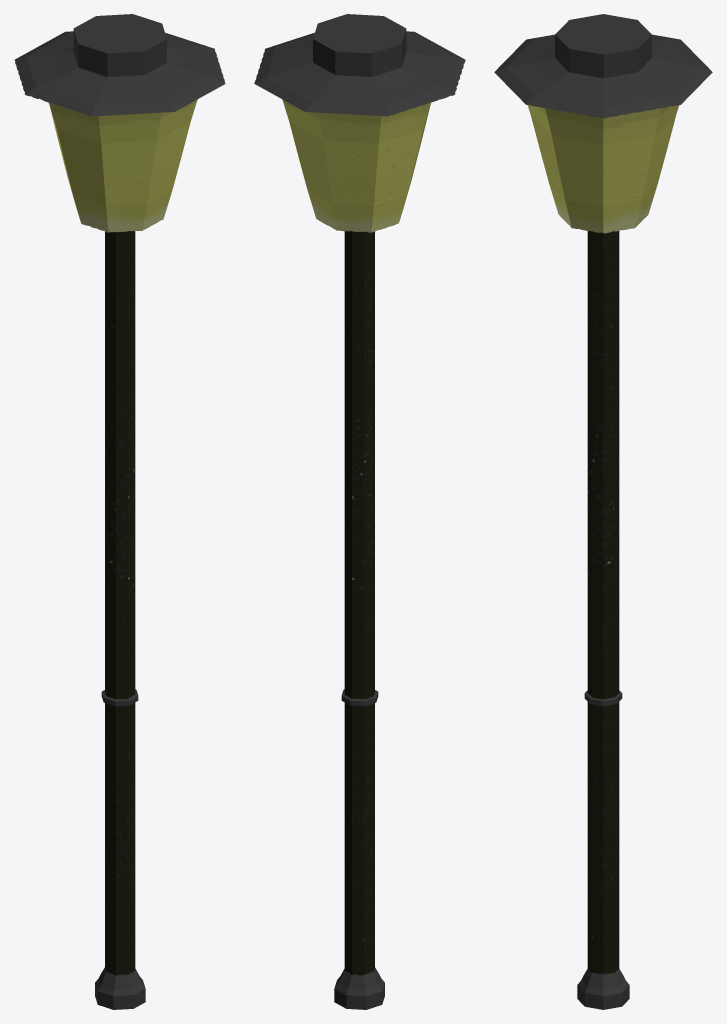
Rendered from PosteAsset.fbx.
3 renders of one model, left to right at view 1: azimuth 30°, elevation 25°; view 2: azimuth 150°, elevation 25°; view 3: azimuth 270°, elevation 25°, orthographic.
Parts seen in each view (by area): view 1: Poste; view 2: Poste; view 3: Poste.
Part boxes in pixels (left/top/right/bottom): Poste: left=14, top=14, right=225, bottom=1009; Poste: left=254, top=14, right=465, bottom=1009; Poste: left=494, top=14, right=712, bottom=1009.
Size of the model in its own units: 57.38 by 279 by 57.38.
